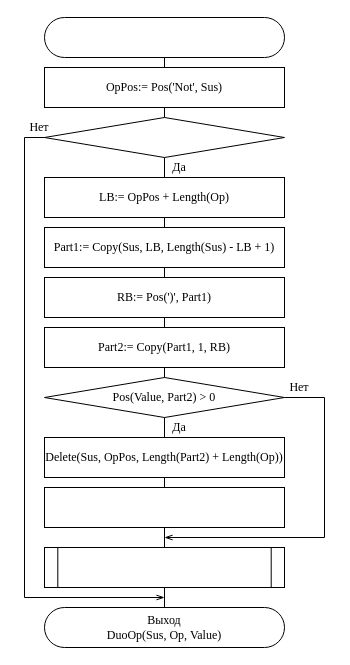
This 350x665 diagram has some shape labels left out. Each missing label, with the centre of its shape:
"(OpPos > 0)" belongs at point 164,137.
"DuoOp(Sus, Op, Value)" belongs at point 164,567.
"Insert(Value, Sus, OpPos)" belongs at point 164,507.
"Вход DuoOp(Sus, Op, Value)" belongs at point 164,37.
